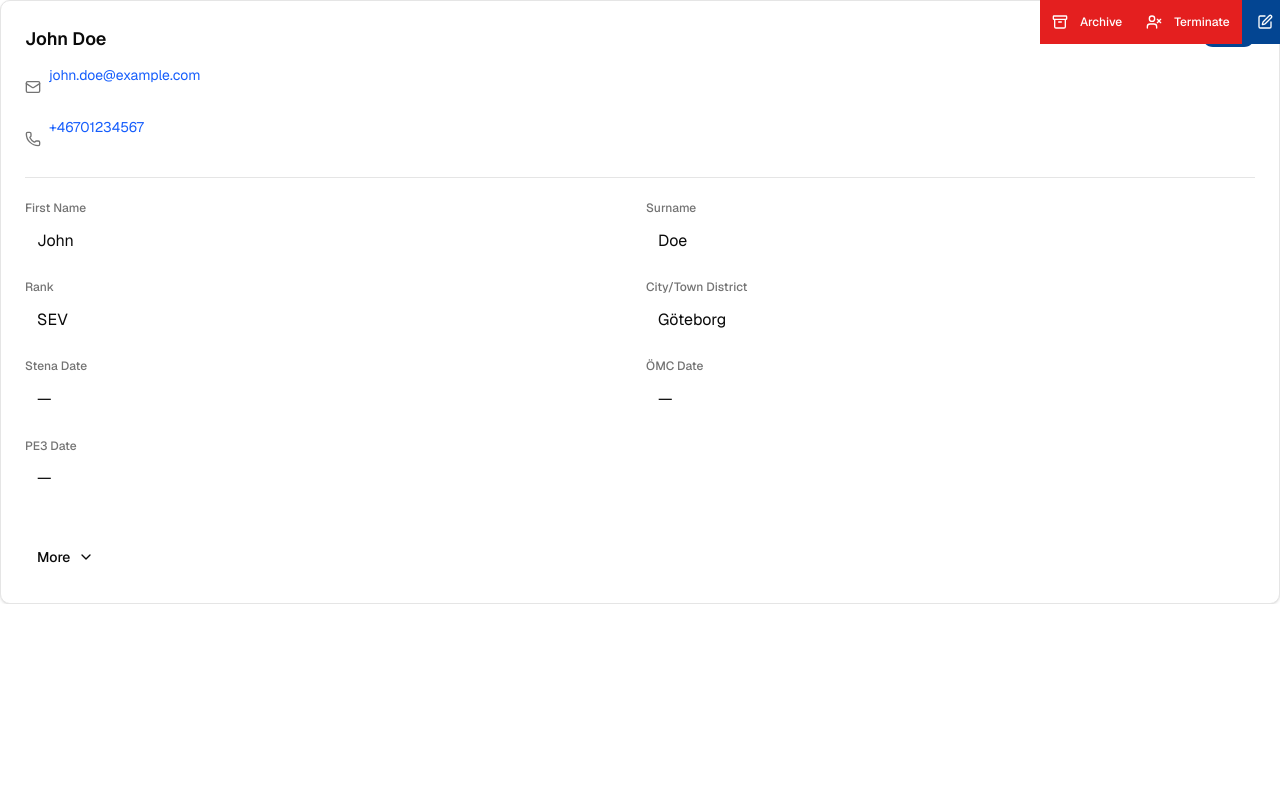
Test: EmployeeCard - Always-Visible Fields (Story 12.8) › should collapse card when "Less" button is clicked
Expand the card
Click the button with aria-label "Expand details" at coordinates (66, 557), box [25,535,106,579]
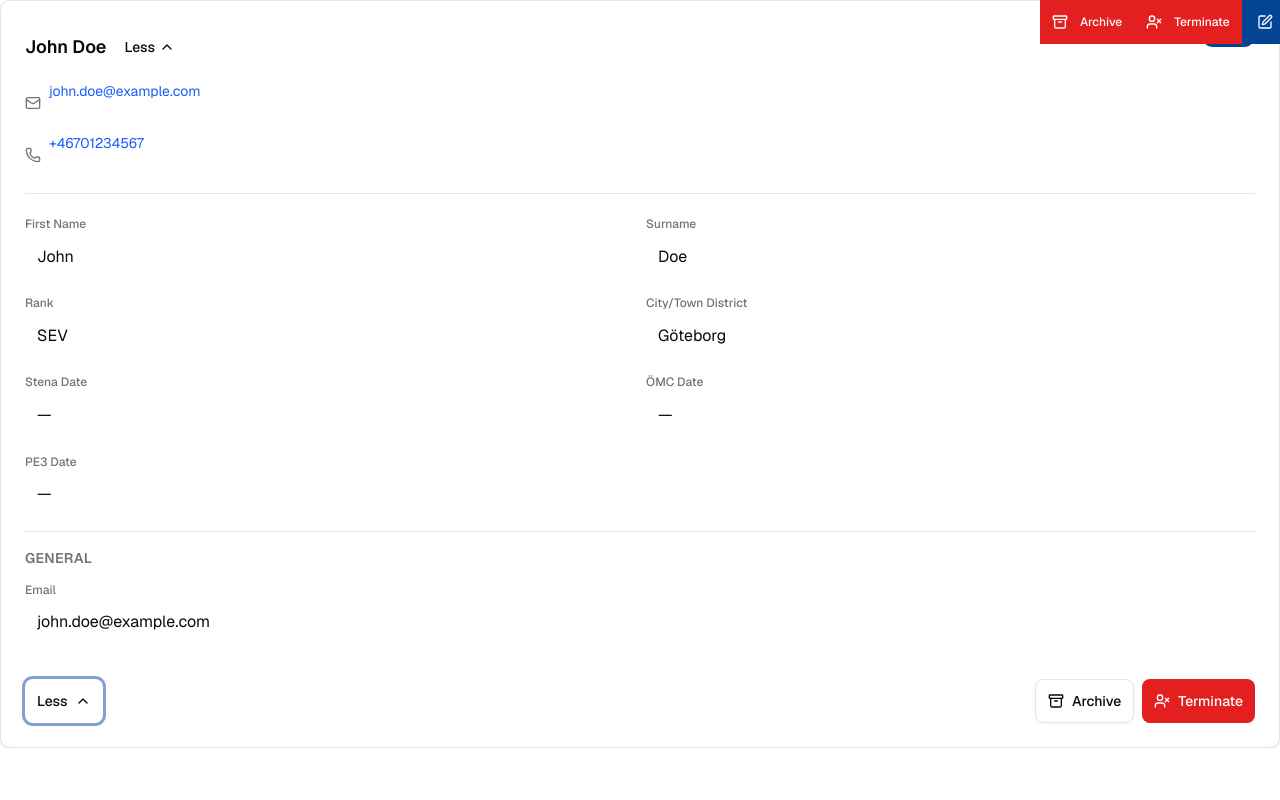
Expected: the button with aria-label "Collapse card" is shown
Click "Less" button
Click the button with aria-label "Collapse card" at coordinates (150, 47), box [114,25,185,69]
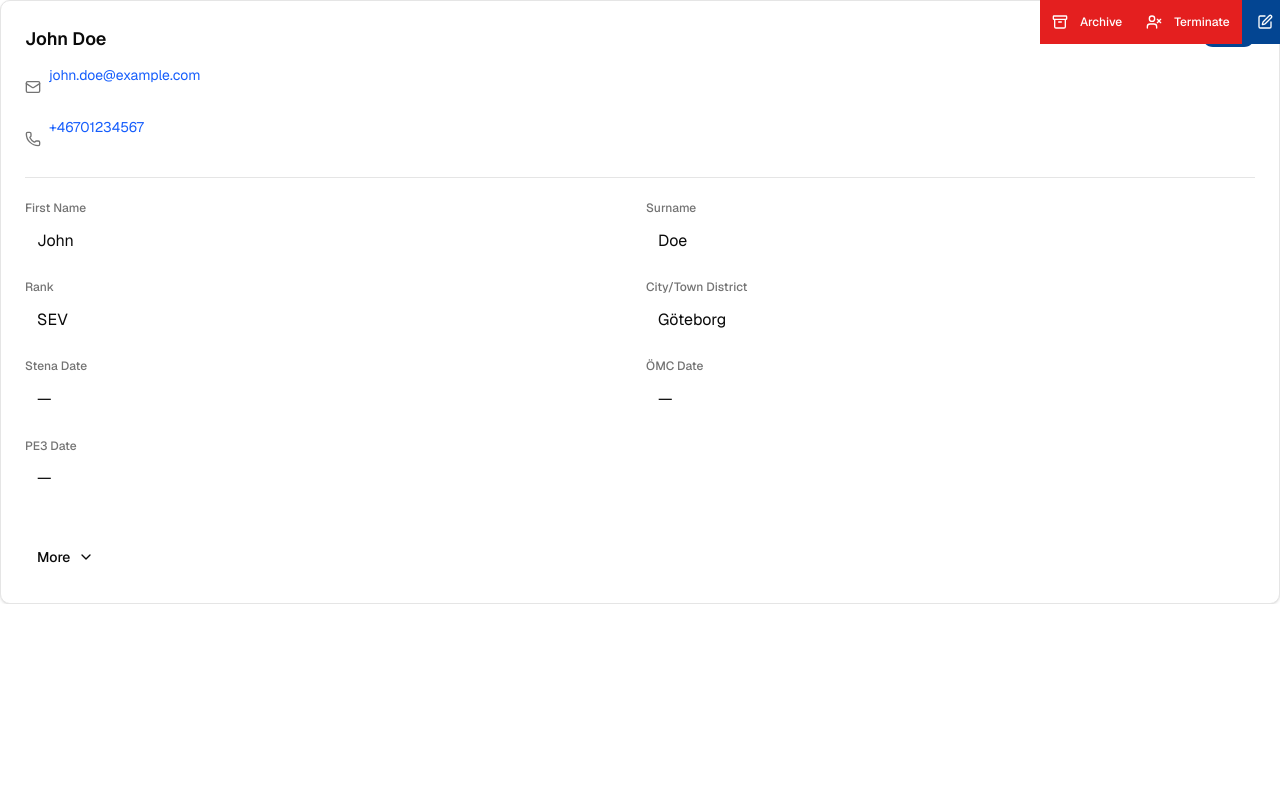
Expected: the button with aria-label "Expand details" is shown, [25,535,106,579]
